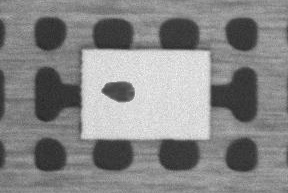DIE_INK: (98, 80, 135, 103)
